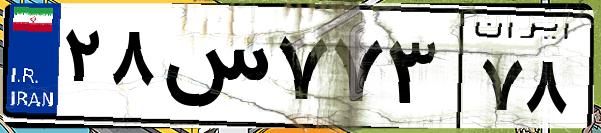2: (57, 26, 110, 100)
3: (385, 28, 445, 110)
7: (270, 28, 330, 110), (330, 28, 385, 110), (475, 38, 525, 113)
8: (525, 38, 570, 115), (110, 28, 158, 98)
س: (158, 20, 270, 120)
